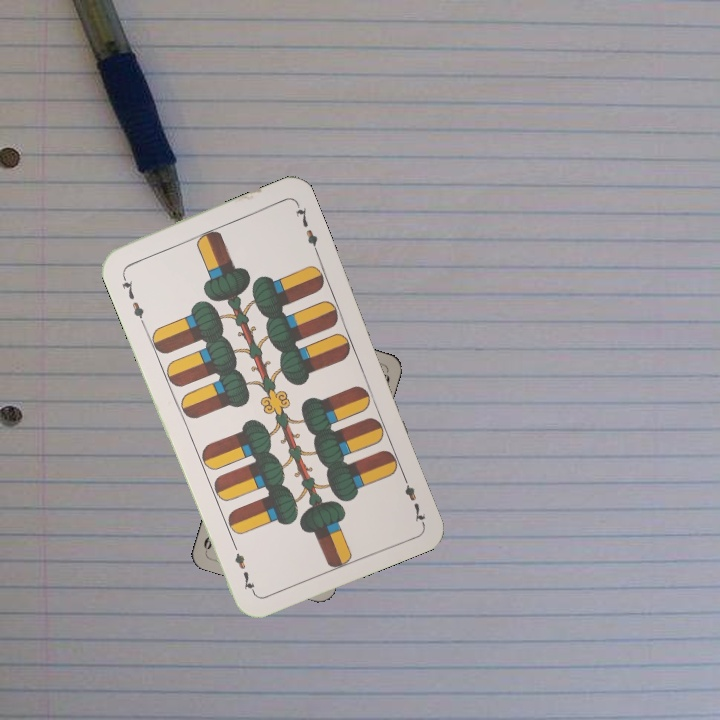E7: (397, 469, 428, 525), (117, 269, 147, 326)
